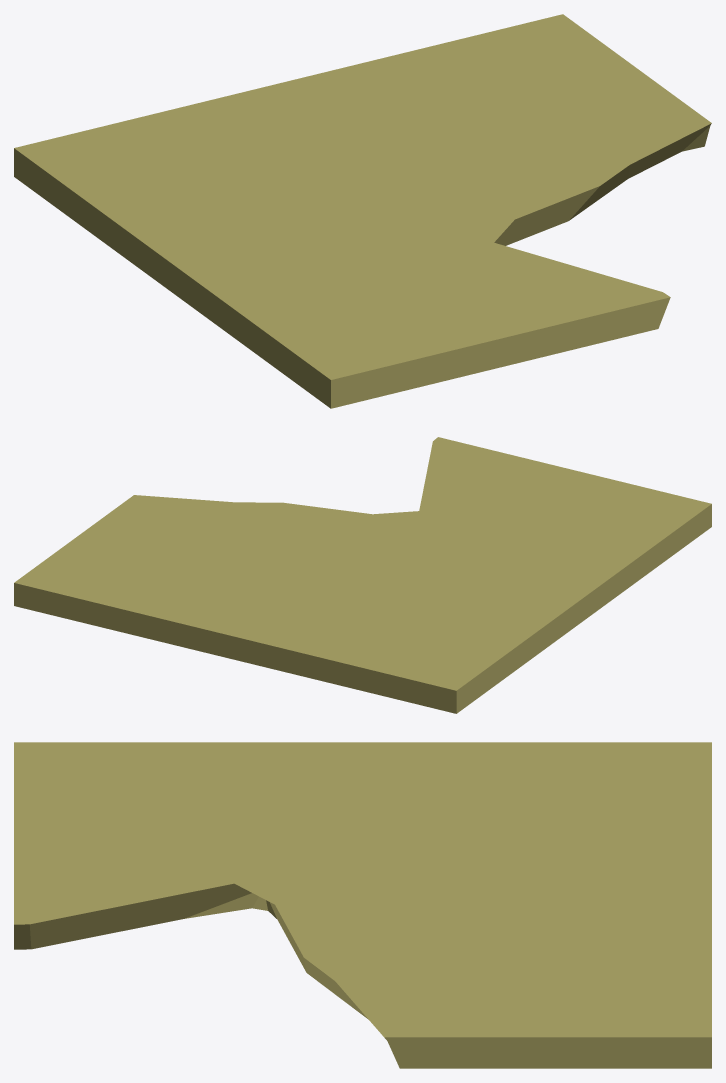
The model's file is Ceiling_004.glb.
3 renders of one model, top to bottom at view 1: azimuth 30°, elevation 25°; view 2: azimuth 150°, elevation 25°; view 3: azimuth 270°, elevation 25°, orthographic. The views are drawn at different scales.
Parts seen in each view (by area): view 1: Ceiling.004; view 2: Ceiling.004; view 3: Ceiling.004.
Boxes of the visible parts, box(x1,y1,x2,y2) form: Ceiling.004: box(14, 14, 711, 408); Ceiling.004: box(14, 437, 711, 713); Ceiling.004: box(14, 742, 711, 1068).
Bounding box in the file's own units: 2 × 0.1 × 2.
